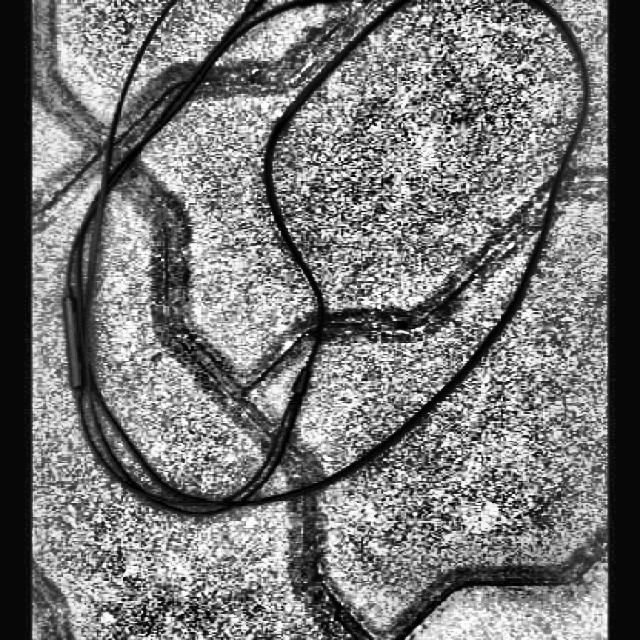Cable: (64, 0, 588, 514)
